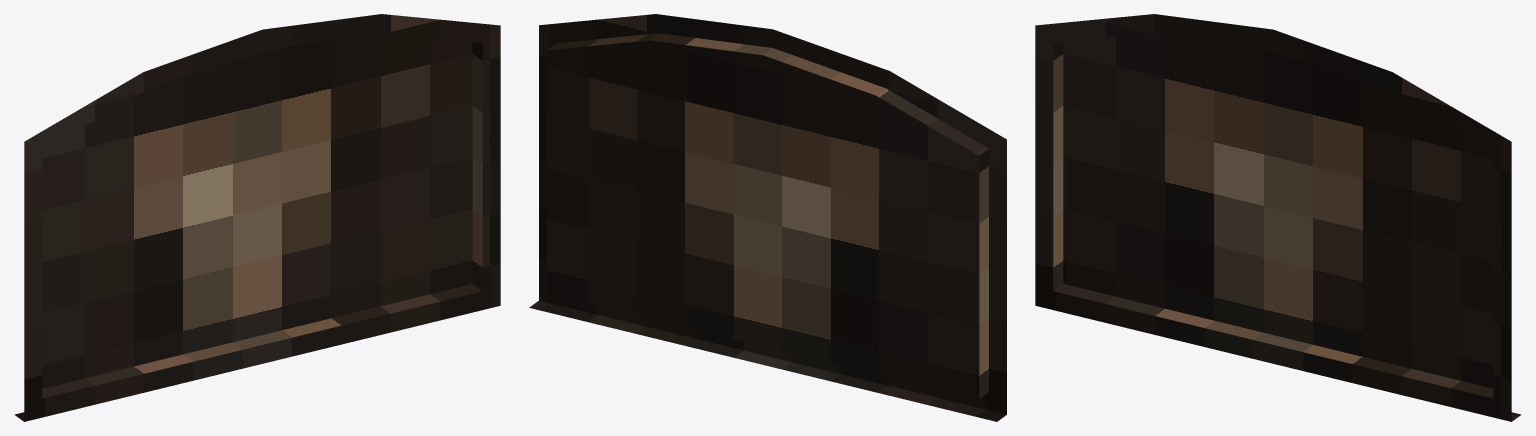
The model's file is door.glb.
3 renders of one model, left to right at view 1: azimuth 30°, elevation 25°; view 2: azimuth 150°, elevation 25°; view 3: azimuth 330°, elevation 25°, orthographic.
Visible parts, largest first — view 1: SM_lvl1-col.001; view 2: SM_lvl1-col.001; view 3: SM_lvl1-col.001.
Part boxes in pixels (box(x1,y1,x2,y2)): SM_lvl1-col.001: box(14, 14, 500, 421); SM_lvl1-col.001: box(529, 14, 1006, 421); SM_lvl1-col.001: box(1035, 14, 1521, 421).
Size of the model in its own units: 5.04 by 3.38 by 0.1844.
Materials: 1 (1 with a texture image).
